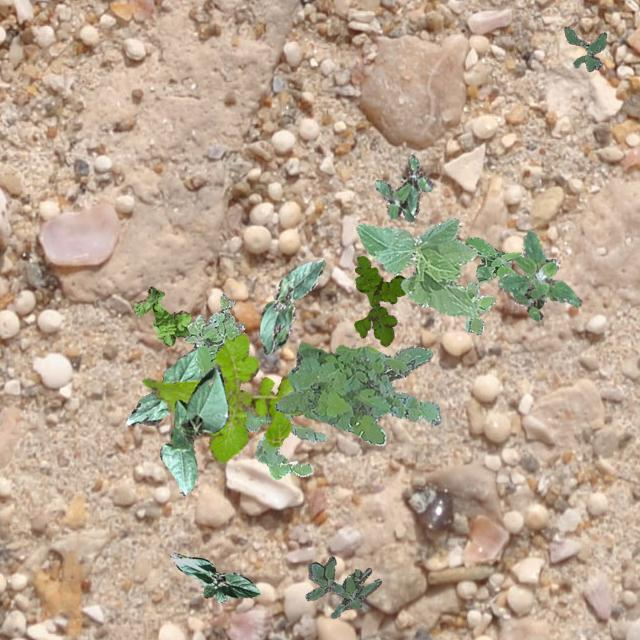crop: (356, 218, 478, 318), (158, 366, 228, 494), (258, 260, 324, 354), (124, 348, 200, 426), (170, 552, 258, 604)
weed: (142, 332, 302, 464), (274, 342, 440, 444), (498, 230, 580, 320), (242, 406, 326, 478), (184, 293, 243, 377), (304, 554, 380, 618), (354, 254, 404, 346), (374, 154, 432, 220), (133, 286, 190, 344), (382, 344, 432, 398), (464, 238, 520, 282), (564, 26, 606, 70), (464, 280, 496, 334)
